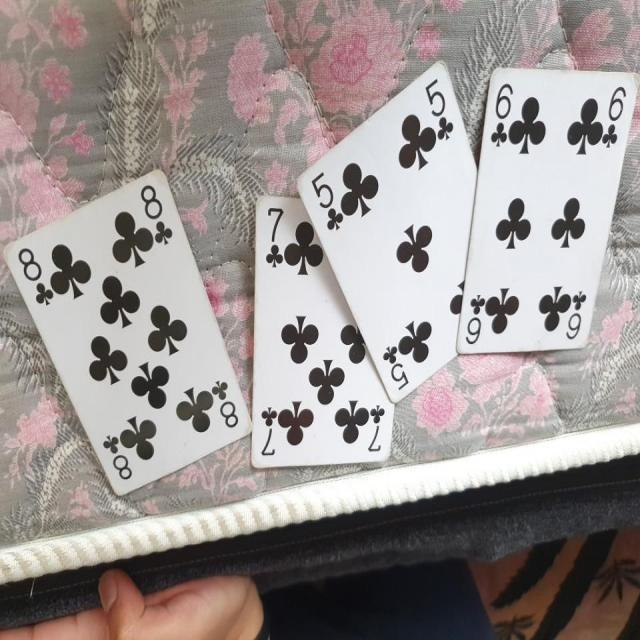5 of clubs: (296, 53, 480, 402)
6 of clubs: (457, 63, 640, 360)
7 of clubs: (248, 193, 396, 470)
8 of clubs: (2, 167, 252, 500)
